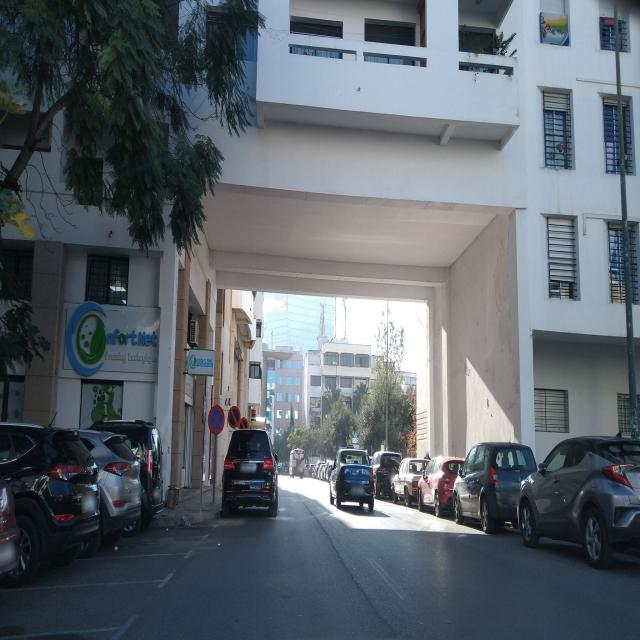forb_stopping: (227, 405, 242, 427)
forb_waiting: (209, 408, 225, 435)
